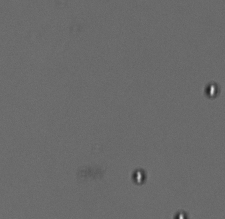Living Cell: (205, 80, 220, 101), (132, 167, 146, 185)
